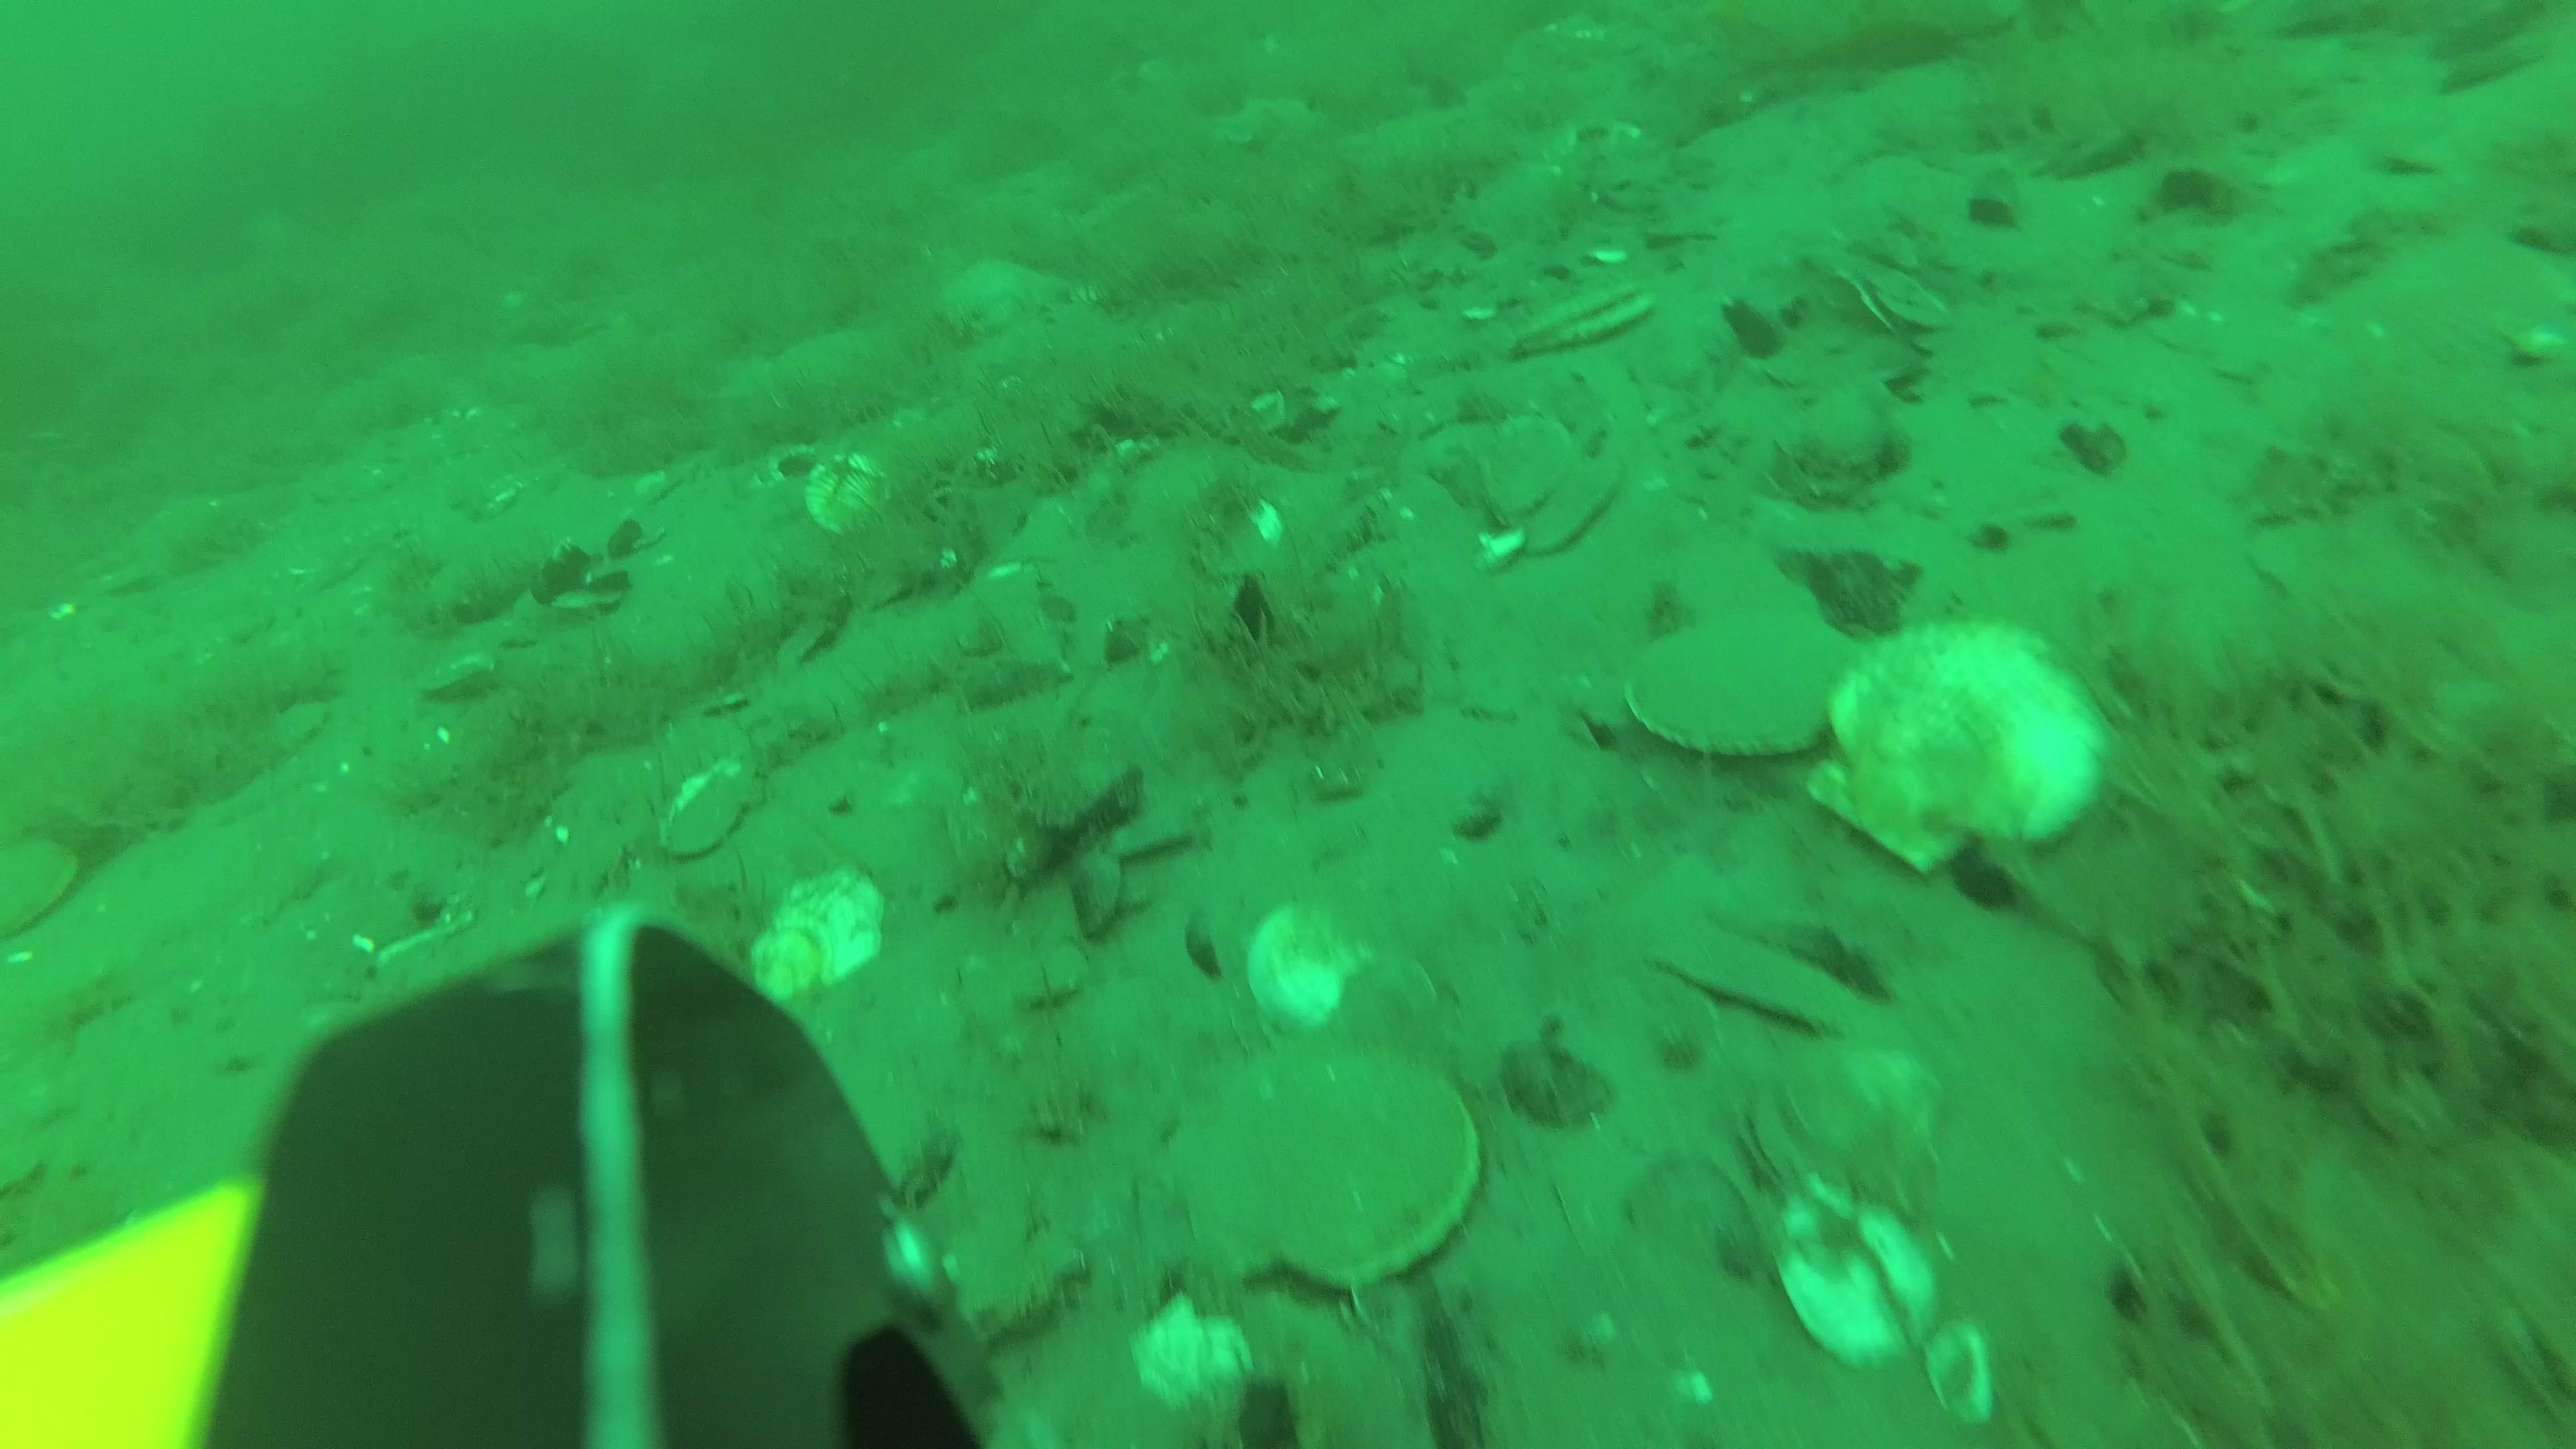scallop: (1162, 1044, 1476, 1276), (1808, 635, 2093, 858), (1615, 607, 1854, 755), (1767, 1185, 1934, 1368), (1789, 1031, 1937, 1191), (754, 865, 886, 1005), (1246, 892, 1355, 1028), (1511, 267, 1665, 356), (660, 752, 768, 862), (1332, 945, 1437, 1058), (1514, 446, 1619, 559), (1472, 414, 1575, 525), (0, 833, 73, 932), (798, 453, 890, 531)
starfish: (936, 255, 1069, 326), (1226, 96, 1318, 143)
